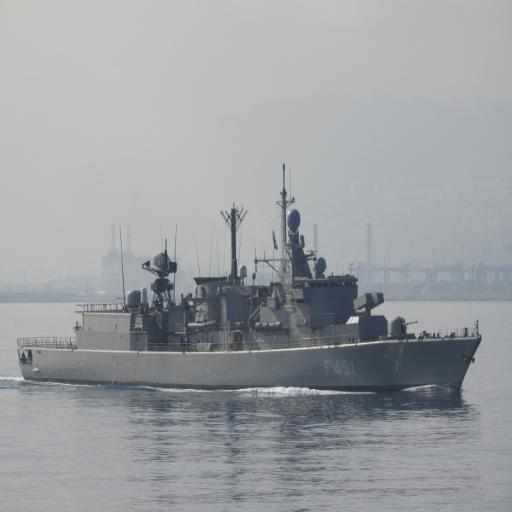Fragata: (13, 152, 487, 406)
